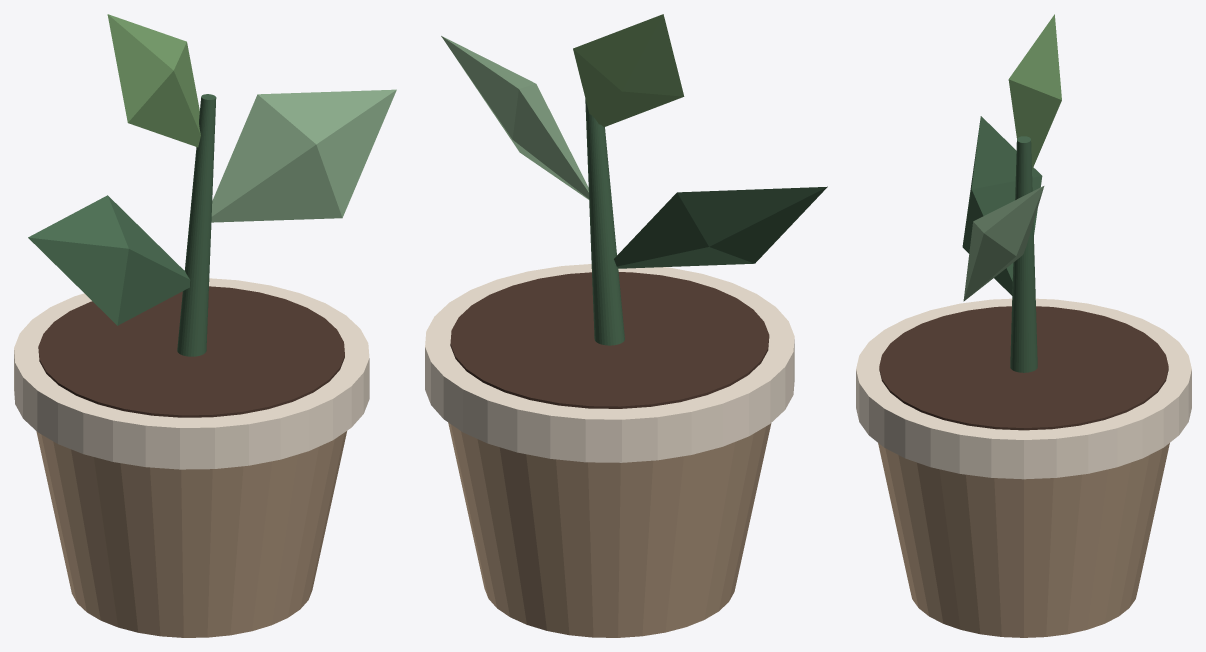
Rendered from pot.glb.
The picture shows the model from 3 angles, left to right: view 1: azimuth 30°, elevation 25°; view 2: azimuth 150°, elevation 25°; view 3: azimuth 270°, elevation 25°; orthographic projection. The views are drawn at different scales.
Visible parts, largest first — view 1: ceramic pot, soil, rim, leaf 2, leaf 1, leaf 3, stem; view 2: ceramic pot, soil, rim, leaf 1, leaf 3, leaf 2, stem; view 3: ceramic pot, soil, rim, leaf 3, leaf 2, leaf 1, stem.
Boxes of the visible parts, x1,y1,x2,y2 form: ceramic pot: (36, 431, 346, 637); soil: (38, 286, 344, 417); rim: (14, 278, 369, 469); leaf 2: (211, 89, 396, 222); leaf 1: (28, 195, 190, 325); leaf 3: (107, 14, 200, 147); stem: (177, 94, 216, 356); ceramic pot: (448, 422, 771, 637); soil: (450, 272, 769, 408); rim: (425, 264, 794, 462); leaf 1: (614, 186, 827, 268); leaf 3: (573, 14, 684, 127); leaf 2: (441, 36, 589, 199); stem: (585, 99, 624, 345); ceramic pot: (878, 443, 1169, 637); soil: (879, 306, 1168, 430); rim: (856, 298, 1191, 479); leaf 3: (1008, 14, 1061, 169); leaf 2: (963, 186, 1044, 301); leaf 1: (962, 116, 1042, 295); stem: (1010, 136, 1037, 372).
Size of the model in its own units: 1.31 by 1.95 by 1.09.
